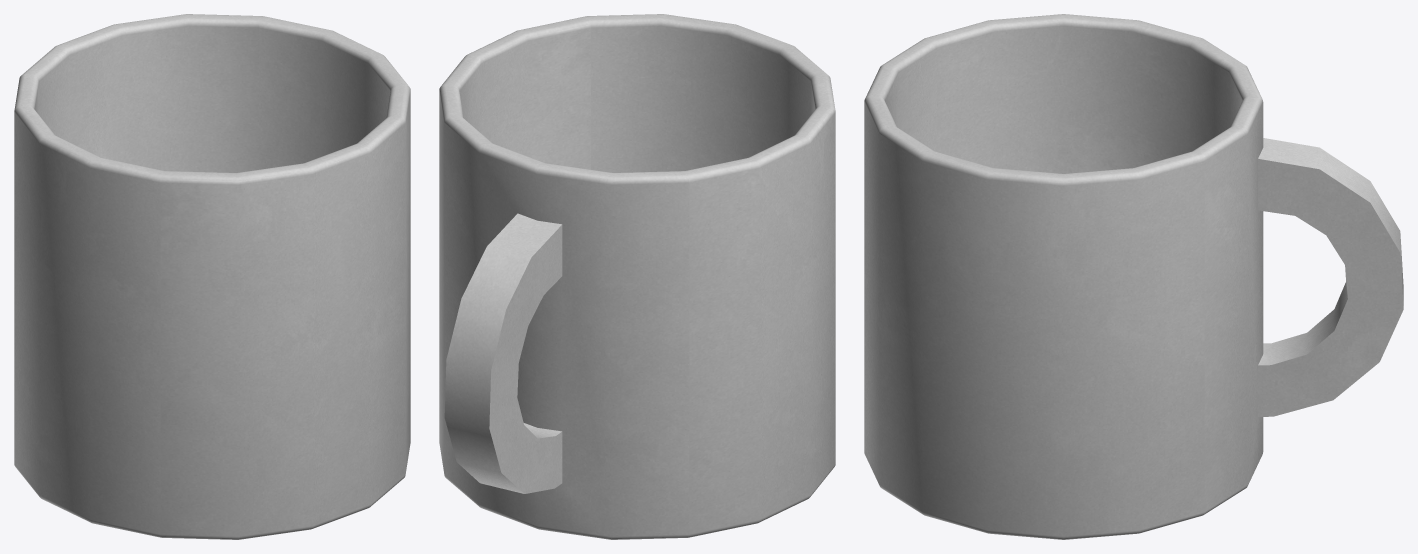
File: cup.glb
3 views of the same model, side by side, from view 1: azimuth 30°, elevation 25°; view 2: azimuth 150°, elevation 25°; view 3: azimuth 270°, elevation 25° (orthographic).
Parts seen in each view (by area): view 1: cup; view 2: cup; view 3: cup.
Boxes of the visible parts, <box> form: cup: <box>14,14,410,539</box>; cup: <box>439,14,835,539</box>; cup: <box>864,14,1403,539</box>.
Bounding box in the file's own units: 0.1 × 0.1 × 0.1352.
1 material, 1 textured.
